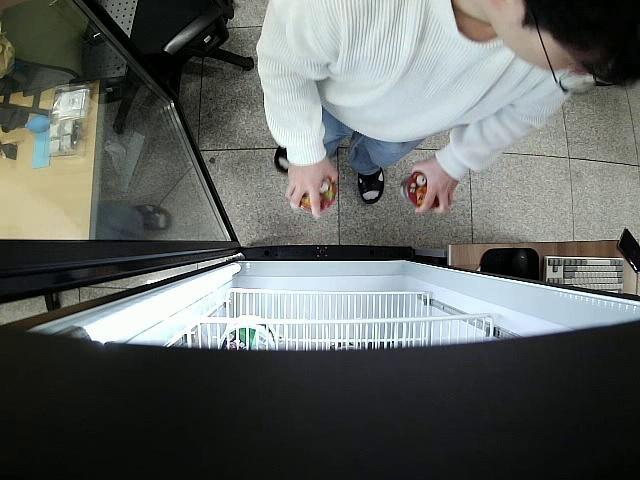06_nuguri_S: (398, 169, 438, 212), (297, 174, 338, 212)
